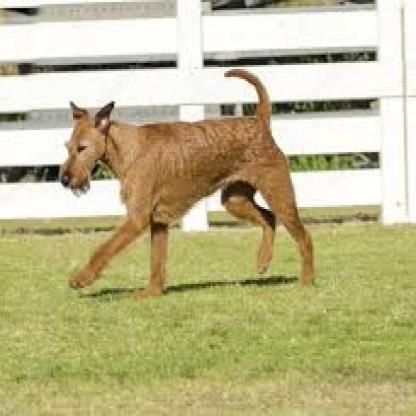Iris Terrier: (35, 62, 330, 313)
